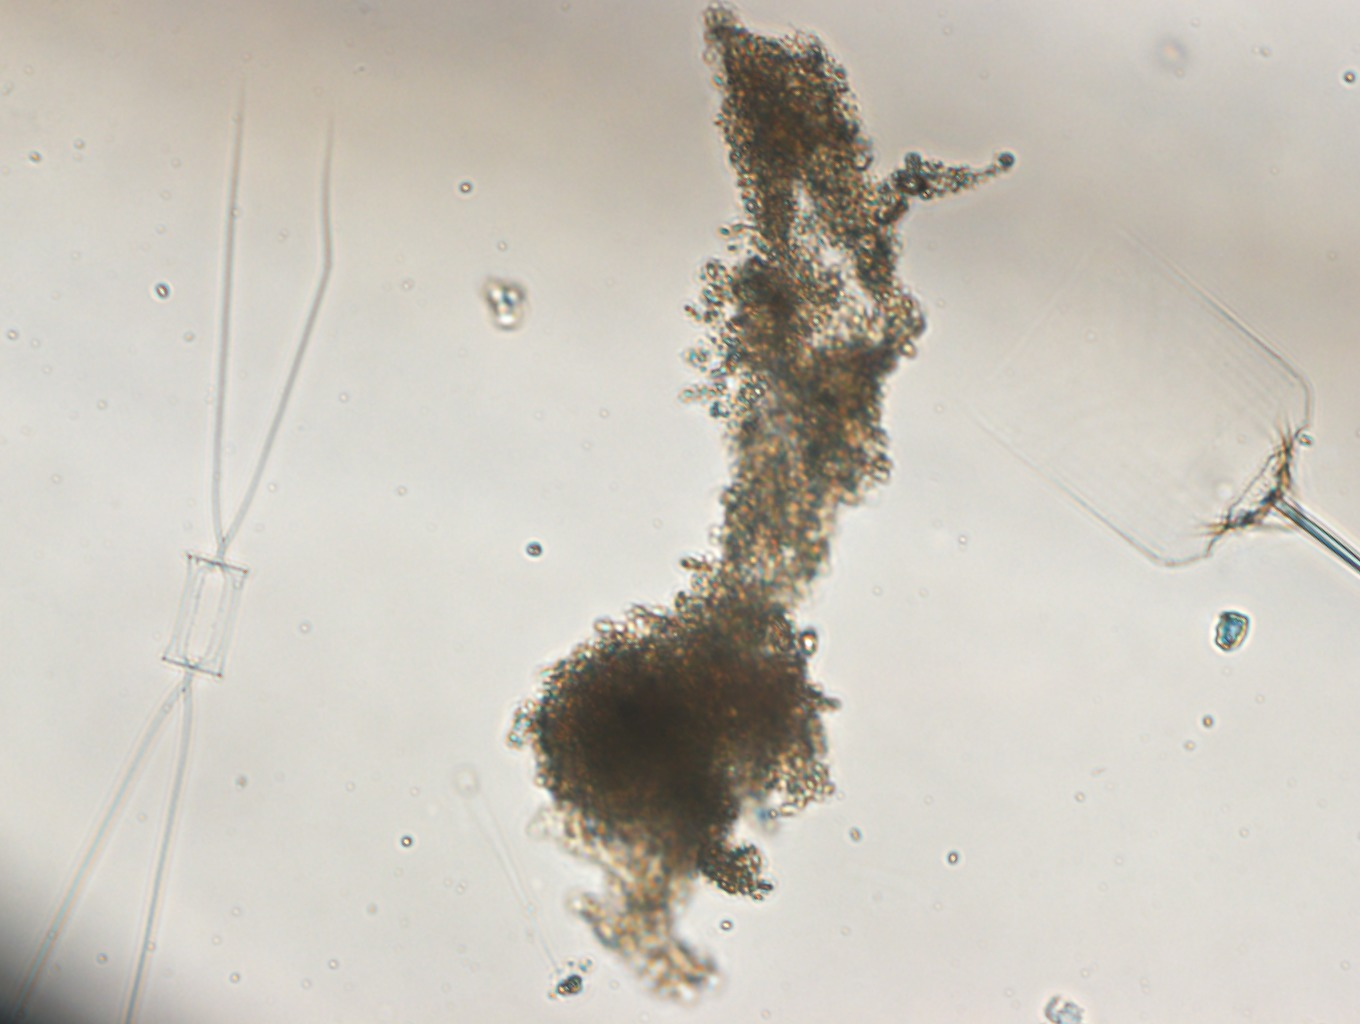chaetoceros: (8, 80, 333, 1024)
ditylum: (967, 216, 1360, 569)
